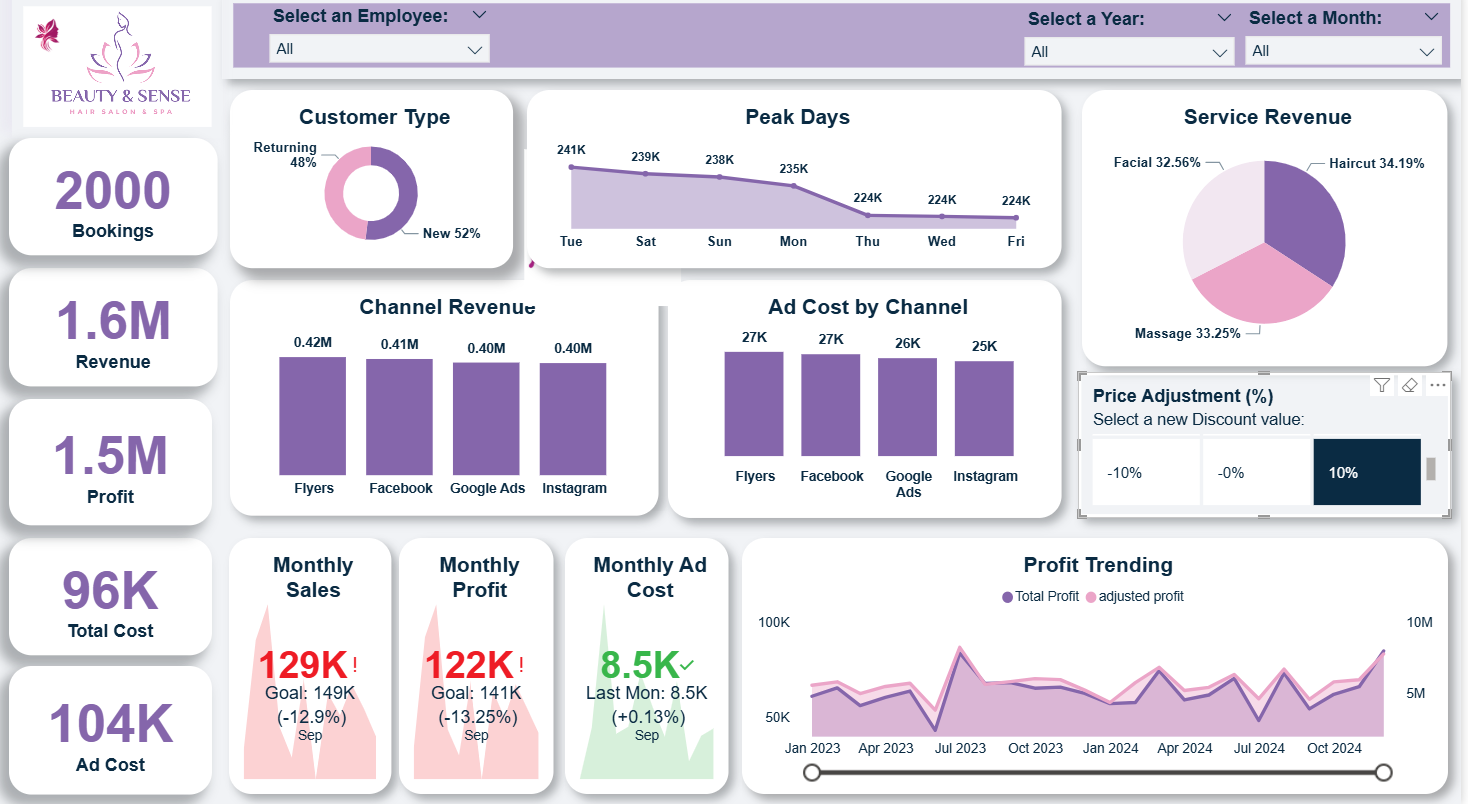

The dashboard page shown, as its layout file describes it:
{"tool":"powerbi","page":{"name":"over view","canvas":[1300,720],"ordinal":0},"visuals":[{"type":"shape","box":[201.3,0,1098.6,77.1],"z":0},{"type":"card","fields":{"Values":["Measure table.Total Sales"]},"box":[12.4,244.4,184.8,105.1],"z":1000},{"type":"kpi","title":"Monthly Sales","fields":{"Goal":["Measure table.Last month sales"],"Indicator":["Measure table.Total Sales"],"TrendLine":["Rolling calender.Month Name"]},"box":[207.6,484.4,143.7,226.9],"z":2000},{"type":"slicer","fields":{"Values":["Rolling calender.Month Name"]},"box":[1103.9,14.2,183.5,51.4],"z":3000},{"type":"card","fields":{"Values":["Measure table.Total Cost"]},"box":[12.4,484.4,179.6,104.2],"z":4000},{"type":"card","fields":{"Values":["Measure table.total ad cost"]},"box":[12.4,597.4,179.6,113.9],"z":5000},{"type":"card","fields":{"Values":["Measure table.Total Profit"]},"box":[12.4,360.9,179.6,112.1],"z":6000},{"type":"kpi","title":"Monthly Profit","fields":{"Indicator":["Measure table.Total Profit"],"Goal":["Measure table.last month profit"],"TrendLine":["Rolling calender.Month Name"]},"box":[358,484,137,227],"z":7000},{"type":"kpi","title":"Monthly Ad Cost","fields":{"Indicator":["Measure table.total ad cost"],"Goal":["Measure table.last month ad cost"],"TrendLine":["Rolling calender.Month Name"]},"box":[505,484,145,227],"z":8000},{"type":"slicer","fields":{"Values":["salon data freelance.employee"]},"box":[238.5,12.4,204.8,55.9],"z":9000},{"type":"columnChart","title":"Channel Revenue","fields":{"Category":["salon data freelance.ad_channel"],"Y":["Measure table.Total Sales"]},"box":[208,255,380,209],"z":10000},{"type":"pieChart","title":"Service Revenue","fields":{"Category":["salon data freelance.service_type"],"Y":["Measure table.Total Sales"]},"box":[964,87,324,245],"z":11000},{"type":"columnChart","title":"Ad Cost by Channel","fields":{"Category":["salon data freelance.ad_channel"],"Y":["Measure table.total ad cost"]},"box":[597,255,349,211],"z":12000},{"type":"donutChart","title":"Customer Type","fields":{"Category":["salon data freelance.customer_type"],"Y":["Measure table.Total Sales"]},"box":[208.4,86.9,250.9,157.8],"z":13000},{"type":"lineChart","title":"Profit Trending","fields":{"Category":["Rolling calender.Start of Month"],"Y":["Measure table.Total Profit"],"Y2":["Price Adjustment (%).adjusted profit"]},"box":[662,484,626,227],"z":14000},{"type":"advancedSlicerVisual","fields":{"Values":["Price Adjustment (%).Price Adjustment  (%)"]},"box":[958,343,330,130],"z":15000},{"type":"image","box":[443.3,129.6,190.1,158.6],"z":16000},{"type":"image","box":[14.9,2.6,186.6,127],"z":18000},{"type":"image","box":[14.9,12.3,63.9,51.7],"z":18500},{"type":"slicer","fields":{"Values":["Rolling calender.Year"]},"box":[908,15.1,196,50.5],"z":19000},{"type":"lineChart","title":"Peak Days","fields":{"Category":["Rolling calender.Day Name"],"Y":["Measure table.Total Sales"]},"box":[471.7,86.9,474.4,157.8],"z":20000},{"type":"card","fields":{"Values":["CountNonNull(salon data freelance.id)"]},"box":[12.4,129.6,184.8,104.2],"z":21000}]}

Visuals, with their boxes in screenshot pixels (x1, y1, x2, y2), scaled from the page's 1300x720 canvas onto the 1468x804 screenshot:
shape: [x1=227, y1=0, x2=1467, y2=86]
card - Measure table.Total Sales: [x1=14, y1=273, x2=223, y2=390]
"Monthly Sales" kpi: [x1=234, y1=541, x2=397, y2=794]
slicer - Rolling calender.Month Name: [x1=1247, y1=16, x2=1454, y2=73]
card - Measure table.Total Cost: [x1=14, y1=541, x2=217, y2=657]
card - Measure table.total ad cost: [x1=14, y1=667, x2=217, y2=794]
card - Measure table.Total Profit: [x1=14, y1=403, x2=217, y2=528]
"Monthly Profit" kpi: [x1=404, y1=540, x2=559, y2=794]
"Monthly Ad Cost" kpi: [x1=570, y1=540, x2=734, y2=794]
slicer - salon data freelance.employee: [x1=269, y1=14, x2=501, y2=76]
"Channel Revenue" columnChart: [x1=235, y1=285, x2=664, y2=518]
"Service Revenue" pieChart: [x1=1089, y1=97, x2=1454, y2=371]
"Ad Cost by Channel" columnChart: [x1=674, y1=285, x2=1068, y2=520]
"Customer Type" donutChart: [x1=235, y1=97, x2=519, y2=273]
"Profit Trending" lineChart: [x1=748, y1=540, x2=1454, y2=794]
advancedSlicerVisual - Price Adjustment (%).Price Adjustment  (%): [x1=1082, y1=383, x2=1454, y2=528]
image: [x1=501, y1=145, x2=715, y2=322]
image: [x1=17, y1=3, x2=228, y2=145]
image: [x1=17, y1=14, x2=89, y2=71]
slicer - Rolling calender.Year: [x1=1025, y1=17, x2=1247, y2=73]
"Peak Days" lineChart: [x1=533, y1=97, x2=1068, y2=273]
card - CountNonNull(salon data freelance.id): [x1=14, y1=145, x2=223, y2=261]
